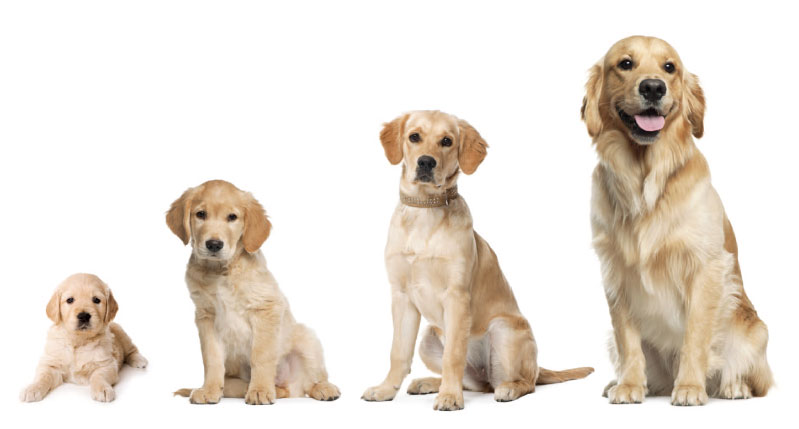dog: (577, 33, 774, 404), (367, 111, 598, 413), (163, 179, 344, 407), (23, 274, 154, 407)
